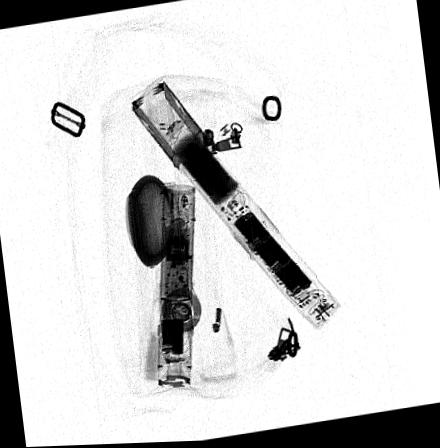Baton: (127, 79, 342, 333), (155, 184, 194, 391)
